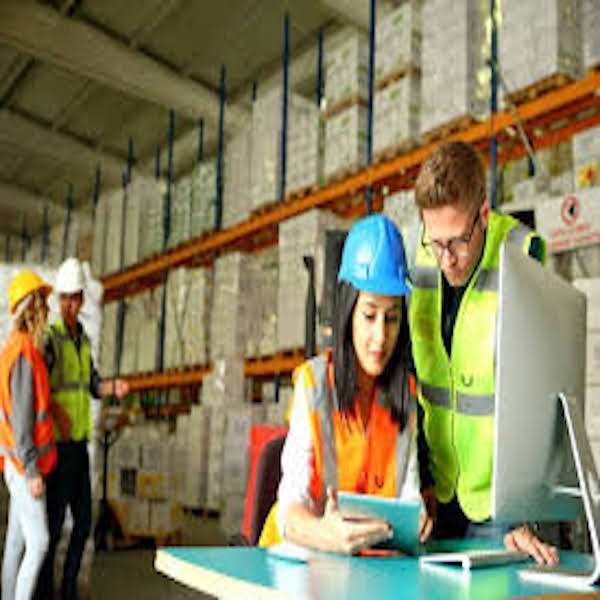helmet: (339, 215, 413, 295), (59, 256, 91, 302), (9, 273, 45, 299)
vest: (418, 224, 536, 510), (301, 352, 412, 527), (46, 322, 100, 447), (4, 328, 39, 489)
